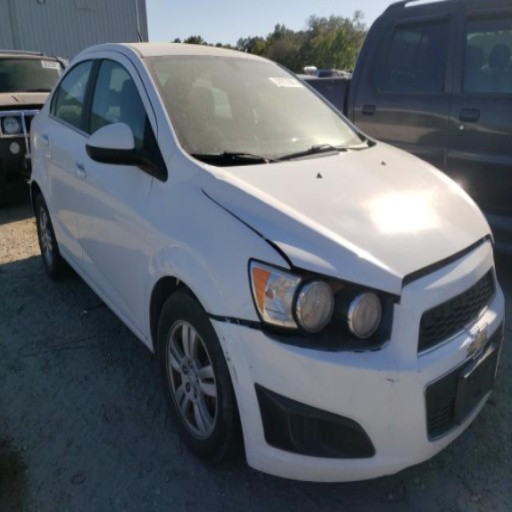scratch: (384, 353, 401, 385), (232, 364, 239, 384), (417, 366, 423, 374), (227, 357, 232, 363), (377, 369, 382, 374), (222, 335, 226, 341), (250, 364, 253, 370), (225, 350, 229, 354)
